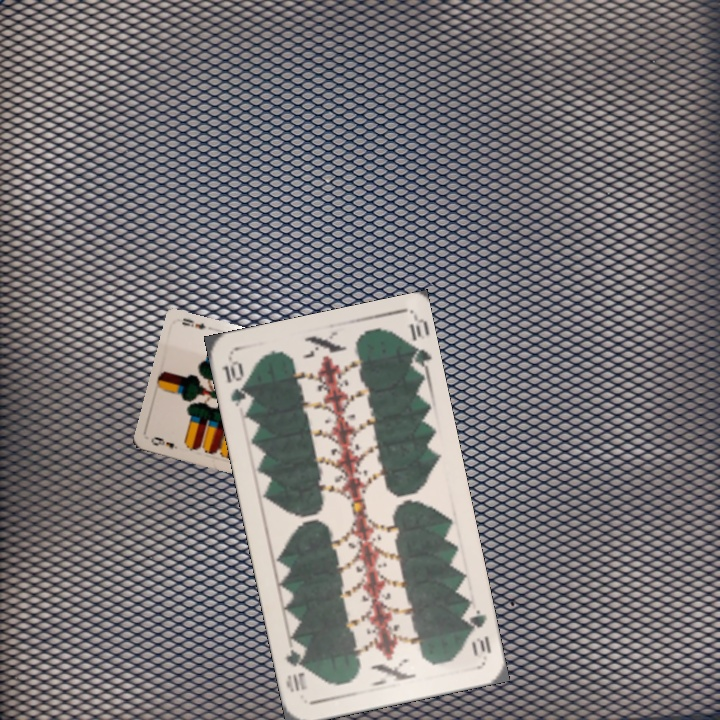E9: (147, 432, 180, 451)
G10: (459, 602, 494, 659), (218, 356, 251, 409)
